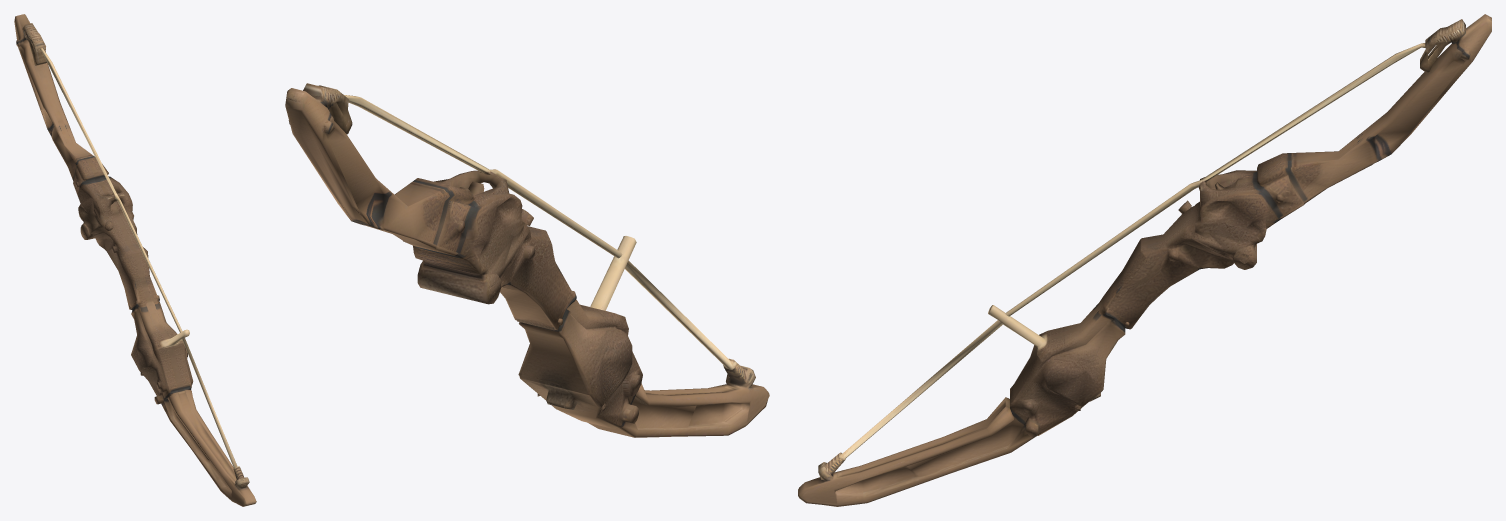
Rendered from ashwood_bow.glb.
The picture shows the model from 3 angles, left to right: view 1: azimuth 30°, elevation 25°; view 2: azimuth 150°, elevation 25°; view 3: azimuth 270°, elevation 25°; orthographic projection. The views are drawn at different scales.
Parts seen in each view (by area): view 1: base_model_path; view 2: base_model_path; view 3: base_model_path.
Boxes of the visible parts, bbox=[...] form: base_model_path: bbox=[14, 14, 256, 506]; base_model_path: bbox=[285, 83, 769, 437]; base_model_path: bbox=[798, 14, 1491, 506].
Size of the model in its own units: 0.0998 by 0.7729 by 0.9999.
1 material, 1 textured.
